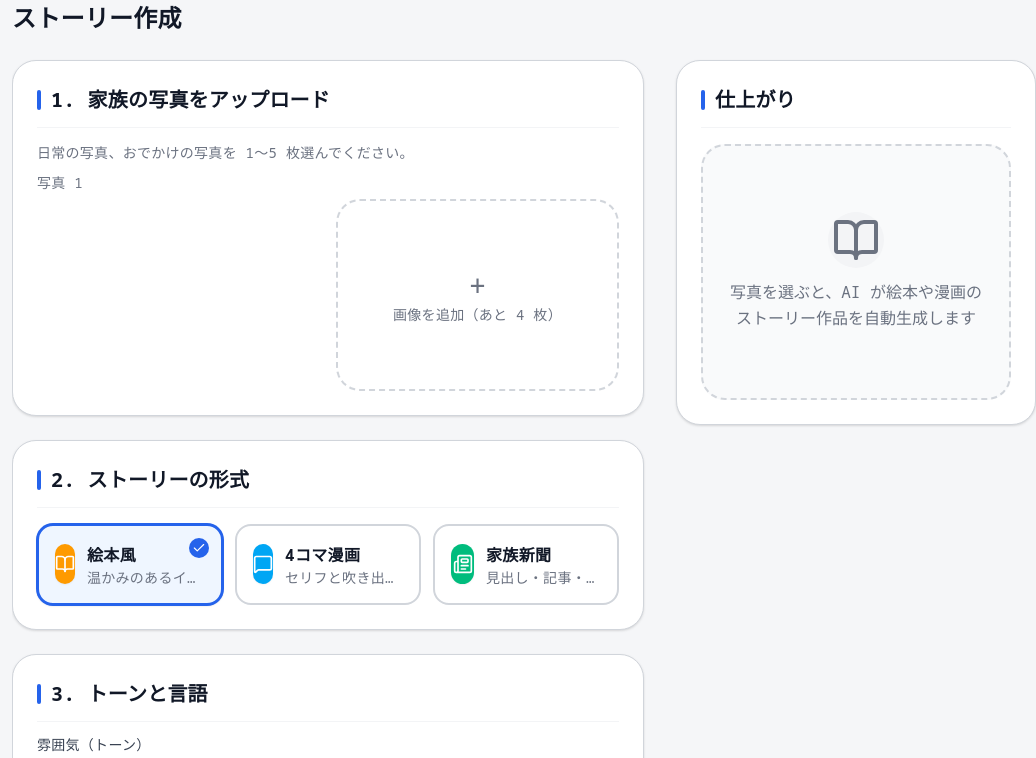
Test case: StoryCreator › caps upload slots at the shared MAX_STORY_UPLOADS limit
The width and height of the screenshot is (1036, 758).
Expected: the text "写真 1" is shown, x1=37 y1=172 x2=83 y2=192
Click the button "+ 画像を追加（あと 4 枚）" at [478, 295], box x1=336 y1=199 x2=619 y2=391
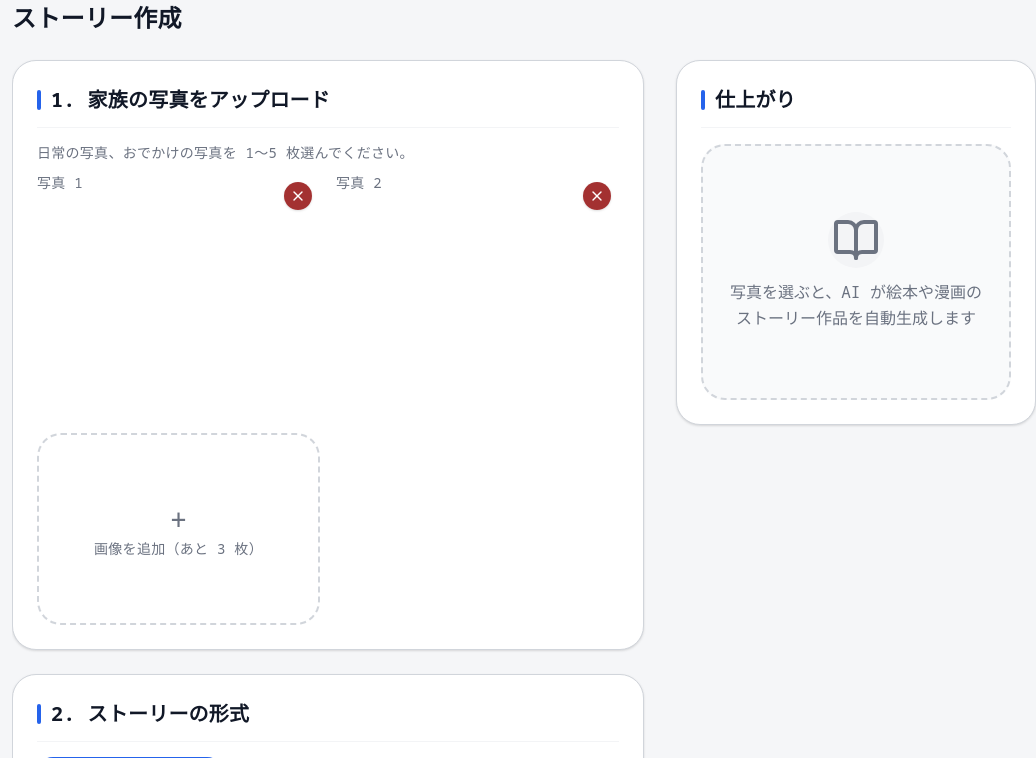
Click the button "+ 画像を追加（あと 3 枚）" at [178, 528], box x1=37 y1=432 x2=320 y2=624
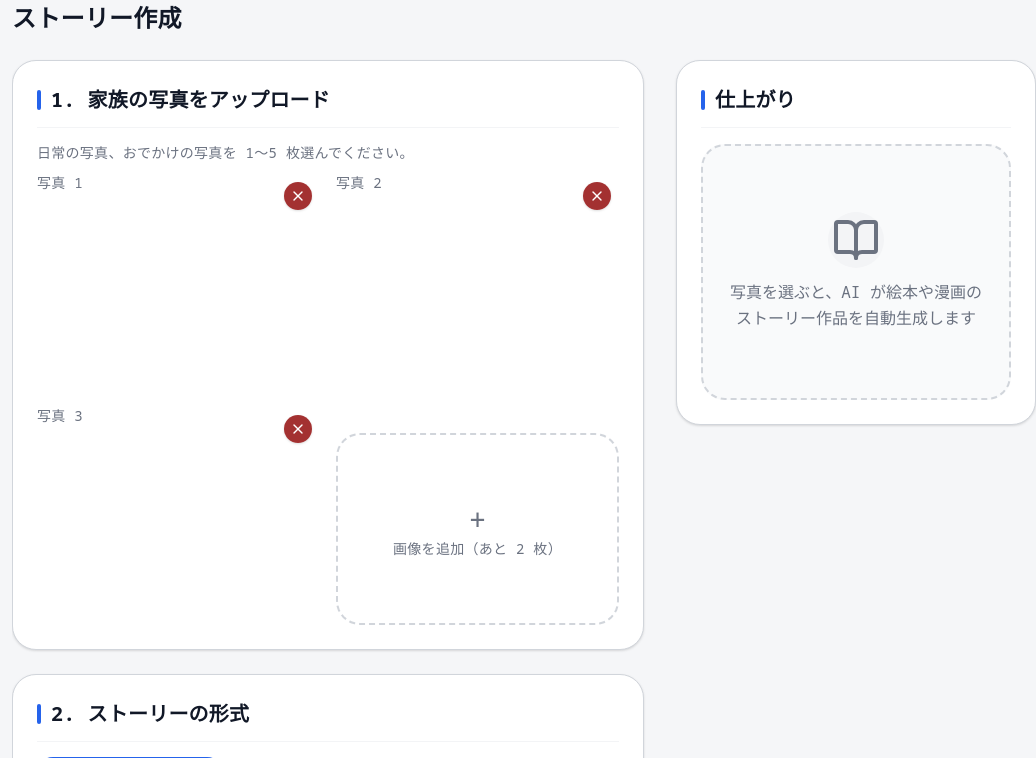
Click the button "+ 画像を追加（あと 2 枚）" at [478, 528], box x1=336 y1=432 x2=619 y2=624
(page scrolled)
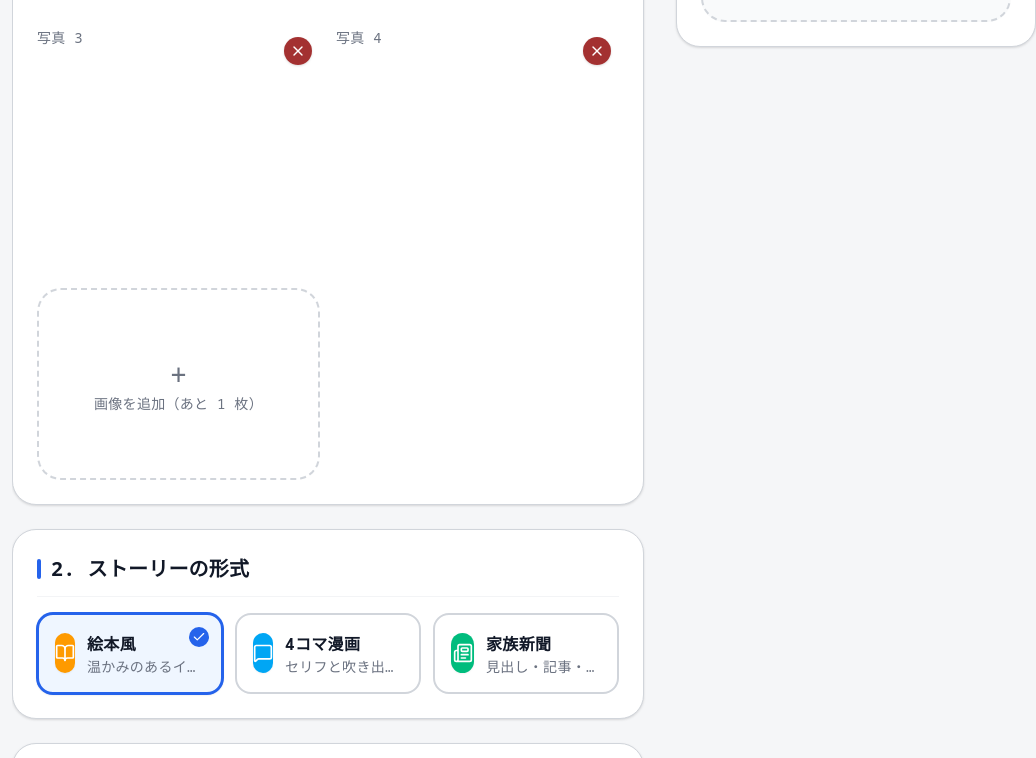
Click the button "+ 画像を追加（あと 1 枚）" at [178, 384], box x1=37 y1=288 x2=320 y2=480
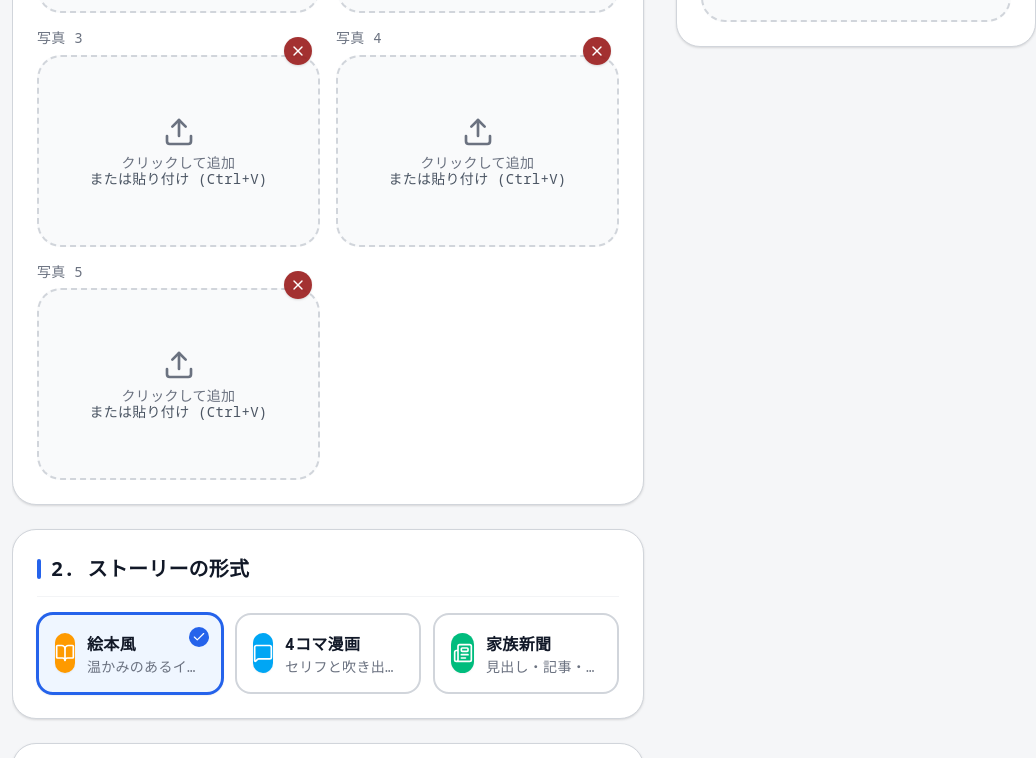
Now the button "画像を追加" is gone
